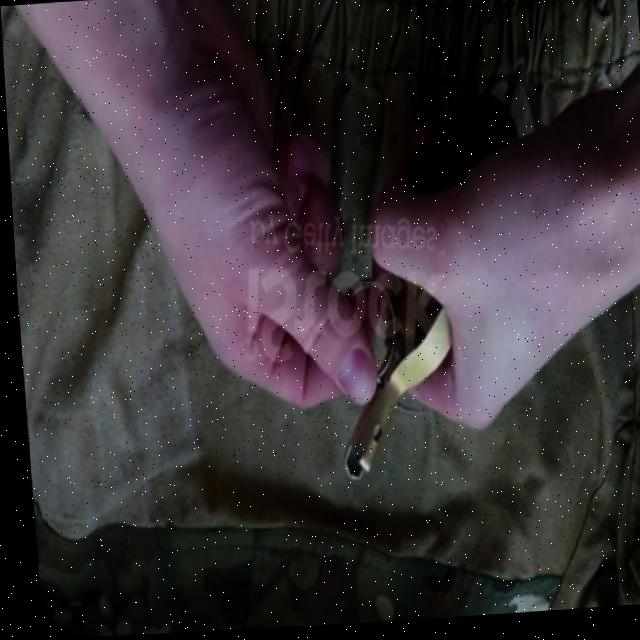grenade: (317, 91, 545, 509)
